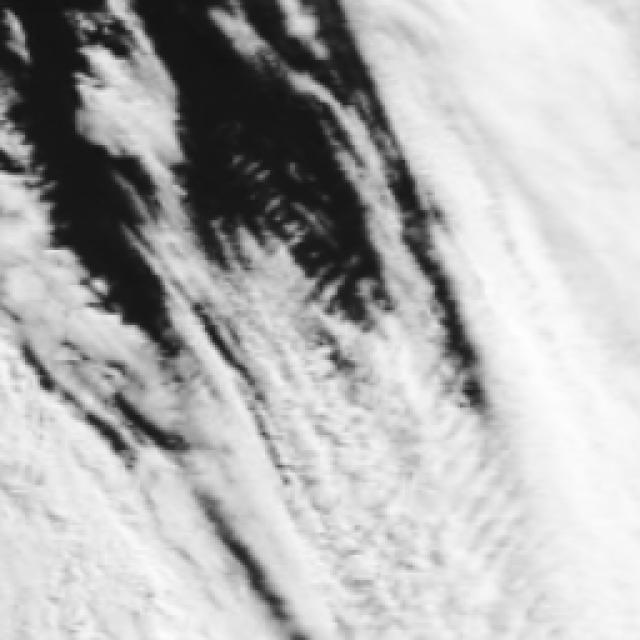CB: (487, 414, 640, 637), (462, 2, 640, 187), (322, 435, 480, 640), (490, 183, 640, 385), (0, 470, 165, 640)
